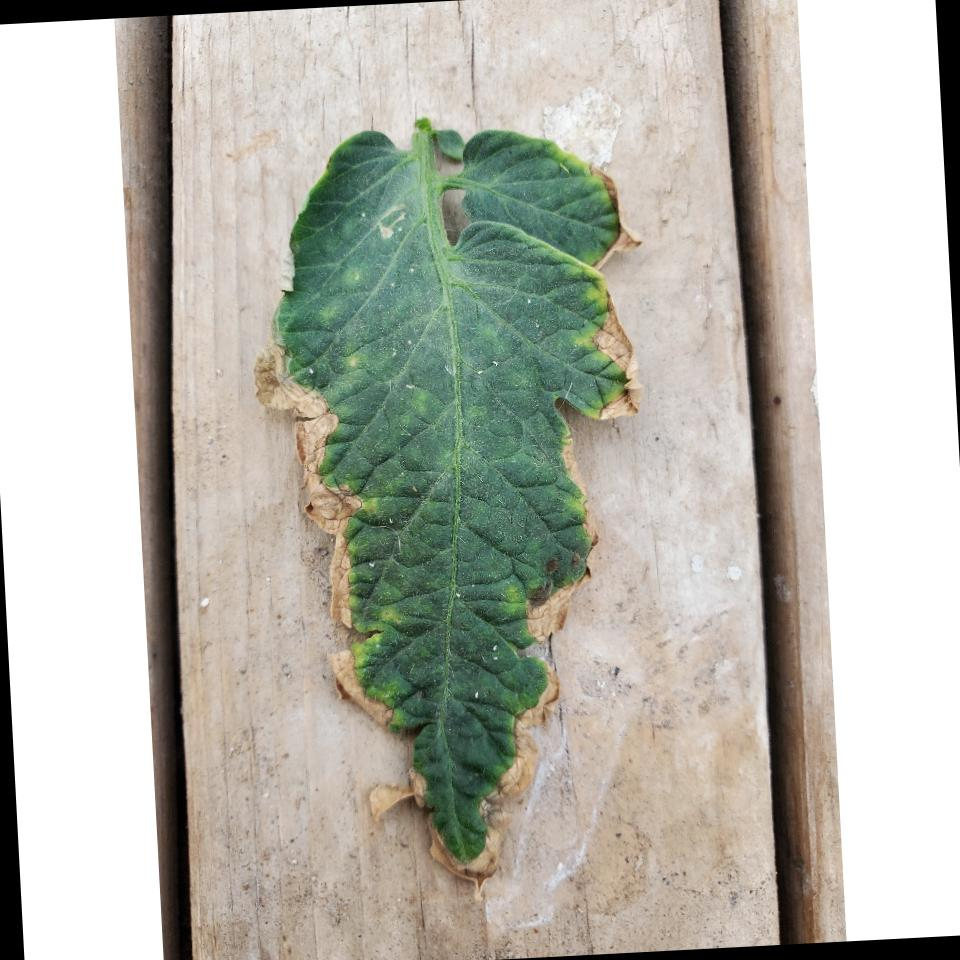tomato_bacterial_blight: (261, 77, 677, 876)
